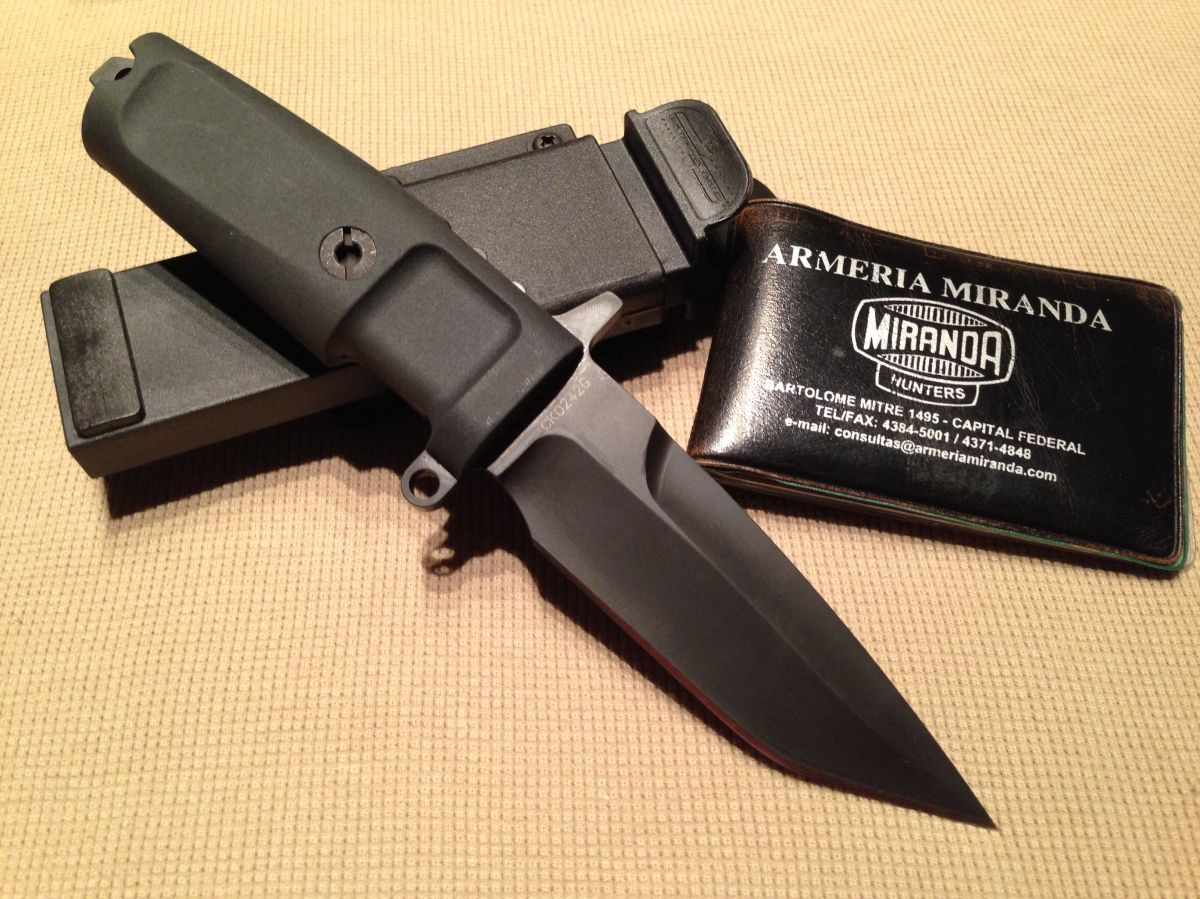knife: (473, 356, 1016, 841)
